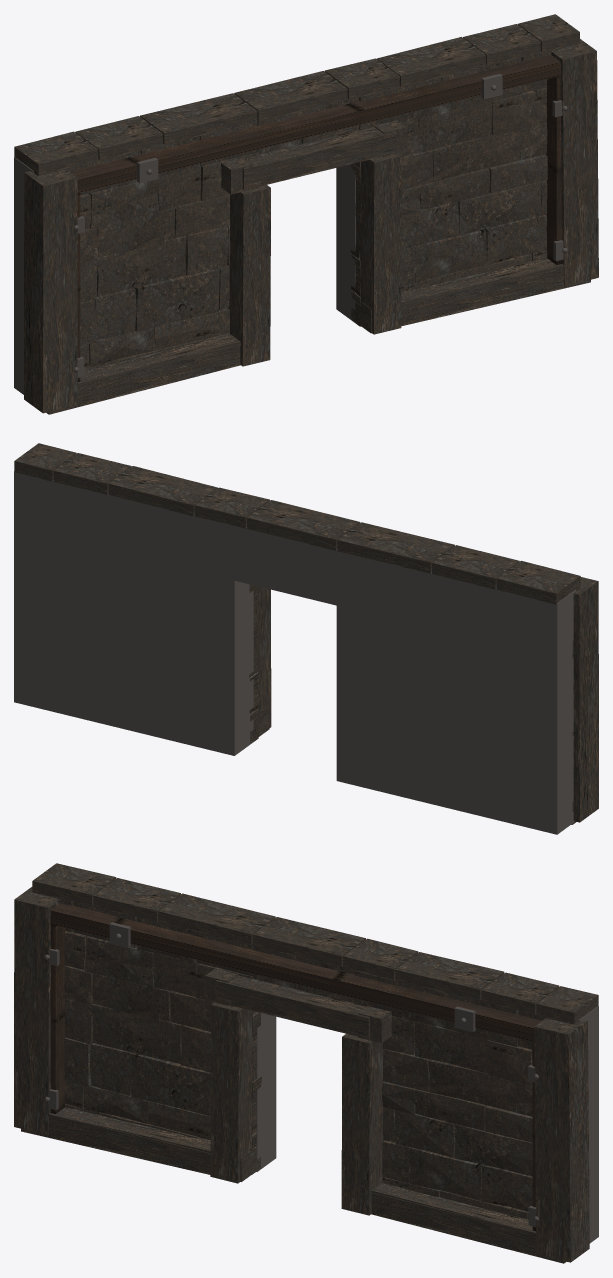
The model's file is Wall_Herrero_V006_PlayCanvas_Preview.glb.
The picture shows the model from 3 angles, top to bottom: view 1: azimuth 30°, elevation 25°; view 2: azimuth 150°, elevation 25°; view 3: azimuth 330°, elevation 25°; orthographic projection.
Visible parts, largest first — view 1: ASSET_LoadBearingCornerPier_-1, ASSET_TimberTopBrace, ASSET_LoadBearingCornerPier_1, ASSET_LoadBearingDoorPier_1, ASSET_LoadBearingDoorPier_-1, ASSET_SolidStoneFoundation_1, ASSET_SolidStoneFoundation_-1, ASSET_WeightBearingLintel, ASSET_L_2_2, ASSET_L_3_1, ASSET_WeatheredFullDepthCoping_2, ASSET_WeatheredFullDepthCoping_3 (+40 smaller); view 2: ASSET_Structural_left, ASSET_Structural_right, ASSET_LoadBearingCornerPier_-1, ASSET_Structural_head, ASSET_WeatheredFullDepthCoping_2, ASSET_WeatheredFullDepthCoping_3, ASSET_WeatheredFullDepthCoping_5, ASSET_WeatheredFullDepthCoping_0, ASSET_WeatheredFullDepthCoping_1, ASSET_WeatheredFullDepthCoping_6, ASSET_WeatheredFullDepthCoping_4, ASSET_LoadBearingDoorPier_1 (+1 smaller); view 3: ASSET_LoadBearingCornerPier_1, ASSET_TimberTopBrace, ASSET_LoadBearingCornerPier_-1, ASSET_LoadBearingDoorPier_-1, ASSET_LoadBearingDoorPier_1, ASSET_SolidStoneFoundation_-1, ASSET_SolidStoneFoundation_1, ASSET_WeightBearingLintel, ASSET_L_2_2, ASSET_L_3_1, ASSET_WeatheredFullDepthCoping_2, ASSET_WeatheredFullDepthCoping_3 (+42 smaller).
Part boxes in pixels (left/top/right/bottom): ASSET_LoadBearingCornerPier_-1: left=24, top=169, right=77, bottom=413; ASSET_TimberTopBrace: left=70, top=55, right=560, bottom=193; ASSET_LoadBearingCornerPier_1: left=551, top=39, right=598, bottom=286; ASSET_LoadBearingDoorPier_1: left=356, top=153, right=401, bottom=334; ASSET_LoadBearingDoorPier_-1: left=228, top=185, right=270, bottom=366; ASSET_SolidStoneFoundation_1: left=351, top=258, right=590, bottom=333; ASSET_SolidStoneFoundation_-1: left=46, top=333, right=240, bottom=414; ASSET_WeightBearingLintel: left=242, top=127, right=396, bottom=190; ASSET_L_2_2: left=134, top=269, right=219, bottom=331; ASSET_L_3_1: left=96, top=236, right=186, bottom=296; ASSET_WeatheredFullDepthCoping_2: left=140, top=93, right=257, bottom=144; ASSET_WeatheredFullDepthCoping_3: left=234, top=71, right=347, bottom=121; ASSET_Structural_left: left=336, top=550, right=576, bottom=834; ASSET_Structural_right: left=14, top=471, right=253, bottom=755; ASSET_LoadBearingCornerPier_-1: left=573, top=577, right=598, bottom=822; ASSET_Structural_head: left=234, top=526, right=336, bottom=605; ASSET_WeatheredFullDepthCoping_2: left=337, top=522, right=454, bottom=573; ASSET_WeatheredFullDepthCoping_3: left=247, top=500, right=360, bottom=550; ASSET_WeatheredFullDepthCoping_5: left=108, top=466, right=217, bottom=516; ASSET_WeatheredFullDepthCoping_0: left=496, top=560, right=580, bottom=604; ASSET_WeatheredFullDepthCoping_1: left=432, top=545, right=519, bottom=589; ASSET_WeatheredFullDepthCoping_6: left=53, top=453, right=131, bottom=494; ASSET_WeatheredFullDepthCoping_4: left=194, top=487, right=269, bottom=528; ASSET_LoadBearingDoorPier_1: left=253, top=586, right=271, bottom=727; ASSET_LoadBearingCornerPier_1: left=534, top=1018, right=589, bottom=1262; ASSET_TimberTopBrace: left=50, top=903, right=541, bottom=1041; ASSET_LoadBearingCornerPier_-1: left=14, top=887, right=60, bottom=1135; ASSET_LoadBearingDoorPier_-1: left=210, top=1002, right=256, bottom=1183; ASSET_LoadBearingDoorPier_1: left=341, top=1033, right=384, bottom=1215; ASSET_SolidStoneFoundation_-1: left=21, top=1107, right=260, bottom=1181; ASSET_SolidStoneFoundation_1: left=371, top=1183, right=566, bottom=1263; ASSET_WeightBearingLintel: left=215, top=975, right=369, bottom=1038; ASSET_L_2_2: left=131, top=1053, right=210, bottom=1115; ASSET_L_3_1: left=91, top=1004, right=181, bottom=1063; ASSET_WeatheredFullDepthCoping_2: left=158, top=893, right=275, bottom=945; ASSET_WeatheredFullDepthCoping_3: left=252, top=917, right=365, bottom=966.
Size of the model in its own units: 8.07 by 3.37 by 0.952.
Materials: 6 (4 with a texture image).
